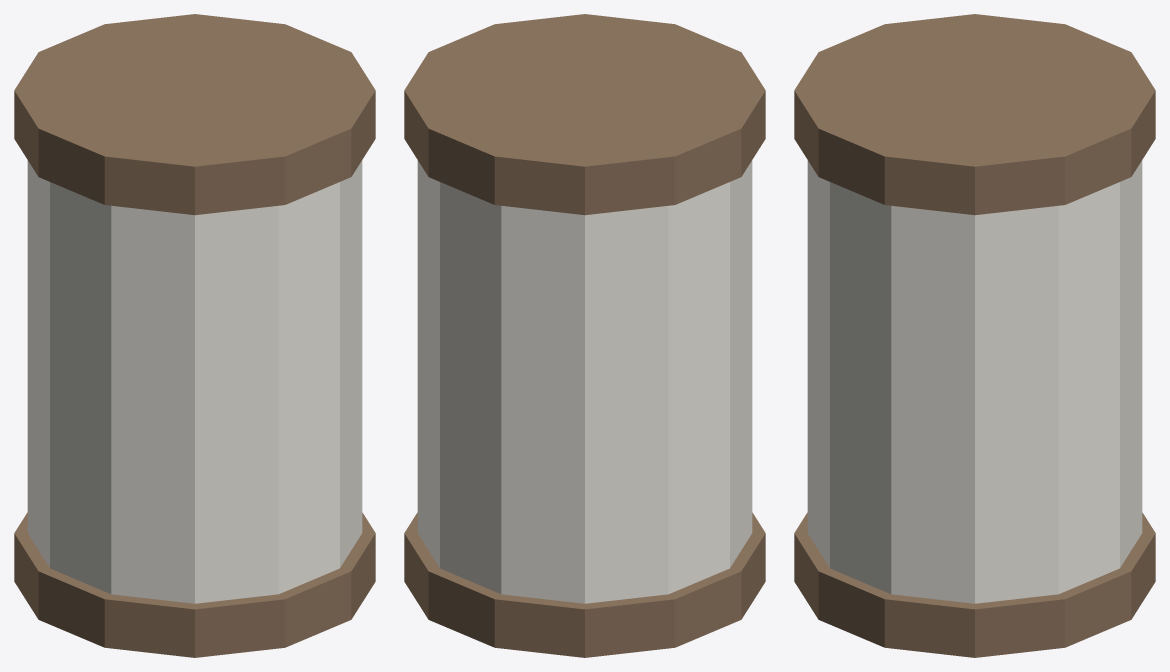
Rendered from paper-lantern.glb.
The picture shows the model from 3 angles, left to right: view 1: azimuth 30°, elevation 25°; view 2: azimuth 150°, elevation 25°; view 3: azimuth 270°, elevation 25°; orthographic projection.
Visible parts, largest first — view 1: paper-lantern; view 2: paper-lantern; view 3: paper-lantern.
Boxes of the visible parts, box(x1,y1,x2,y2) form: paper-lantern: box(14, 14, 375, 657); paper-lantern: box(404, 14, 765, 657); paper-lantern: box(794, 14, 1155, 657).
Size of the model in its own units: 0.54 by 0.81 by 0.54.
